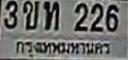2: (74, 2, 87, 30), (90, 2, 102, 31)
3: (3, 0, 17, 28)
6: (106, 3, 118, 31)
A02: (22, 0, 39, 29)
A23: (43, 0, 58, 30)
BKK: (9, 37, 114, 60)
